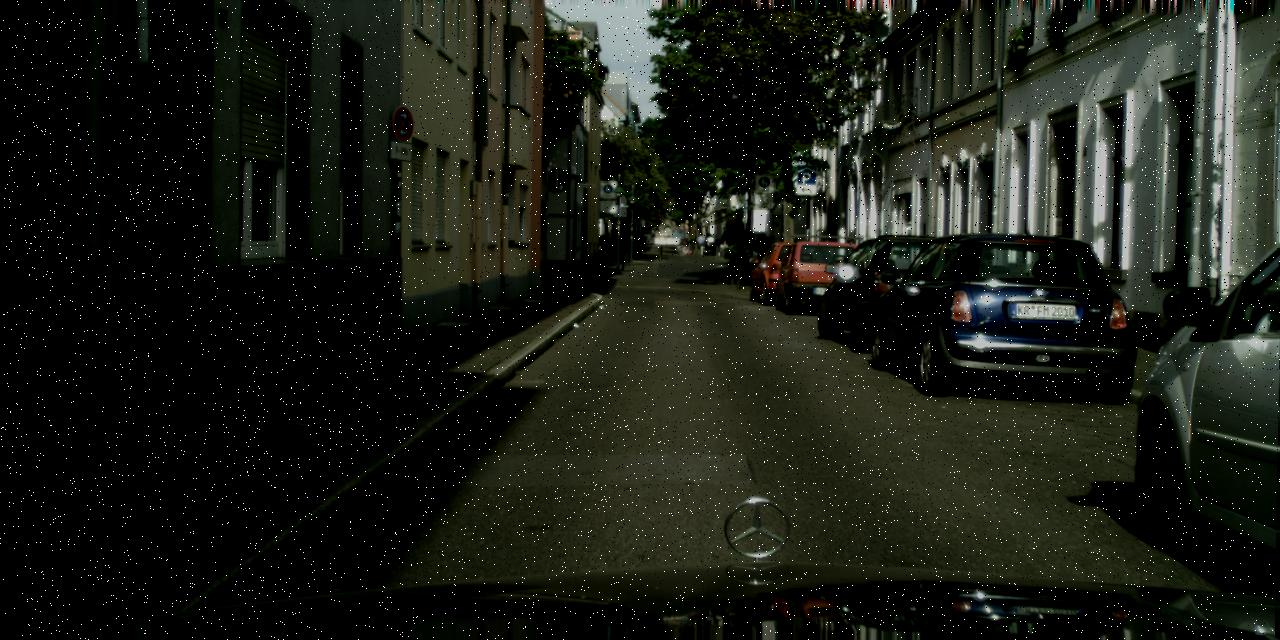ped: (697, 233, 714, 253), (721, 231, 728, 250)
